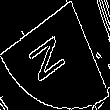N_NE: (32, 26, 78, 84)
